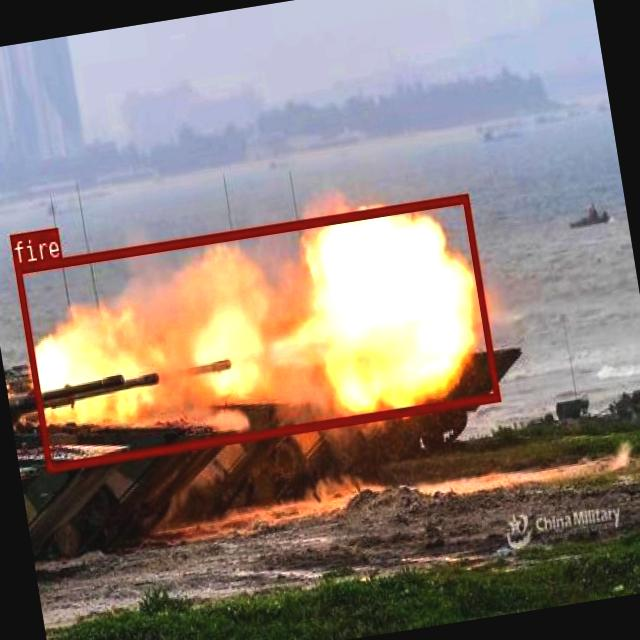fire: (13, 194, 500, 471)
